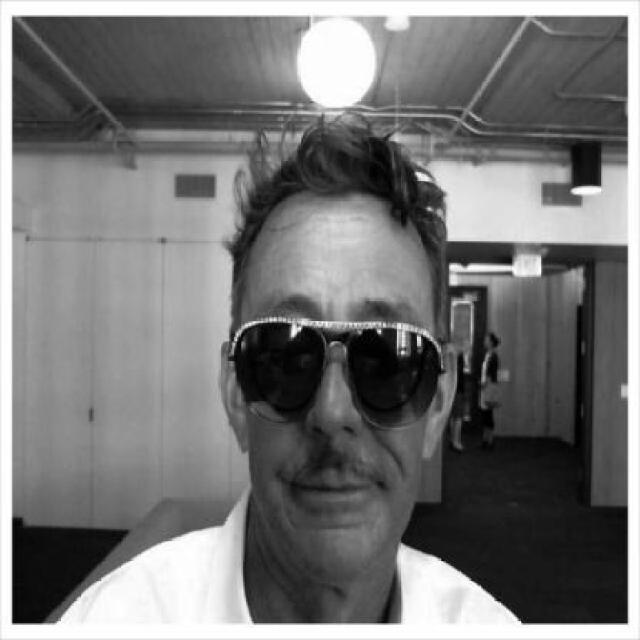face_nomask: (240, 317, 442, 528)
glasses: (227, 320, 448, 426)
head_nohelmet: (225, 126, 448, 266)
